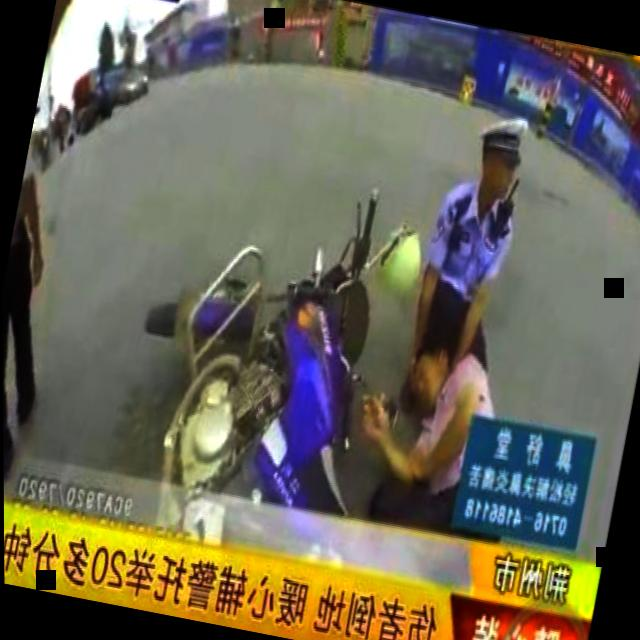Fall-Detected: (337, 314, 526, 555)
